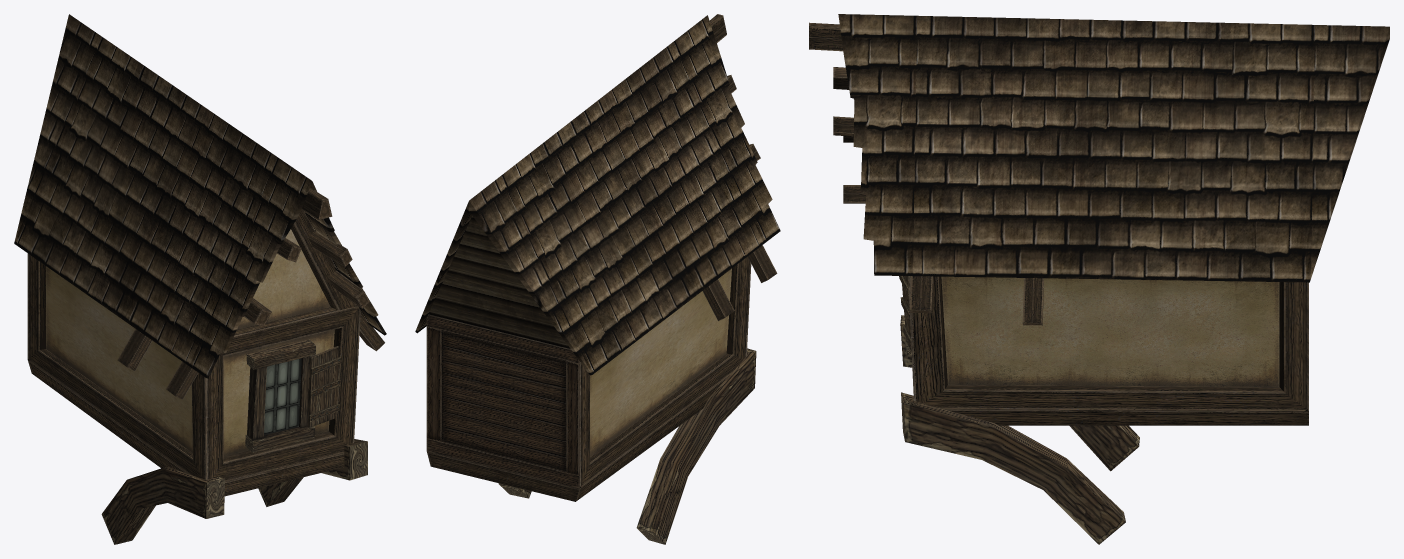
File: Window_a10.fbx
3 renders of one model, left to right at view 1: azimuth 30°, elevation 25°; view 2: azimuth 150°, elevation 25°; view 3: azimuth 270°, elevation 25°, orthographic. The views are drawn at different scales.
Parts seen in each view (by area): view 1: Window_a10; view 2: Window_a10; view 3: Window_a10.
Boxes of the visible parts, left/top/right/bottom form: Window_a10: left=14, top=14, right=386, bottom=544; Window_a10: left=415, top=14, right=780, bottom=544; Window_a10: left=809, top=14, right=1389, bottom=544.
Bounding box in the file's own units: 3.76 × 7.24 × 7.76.
